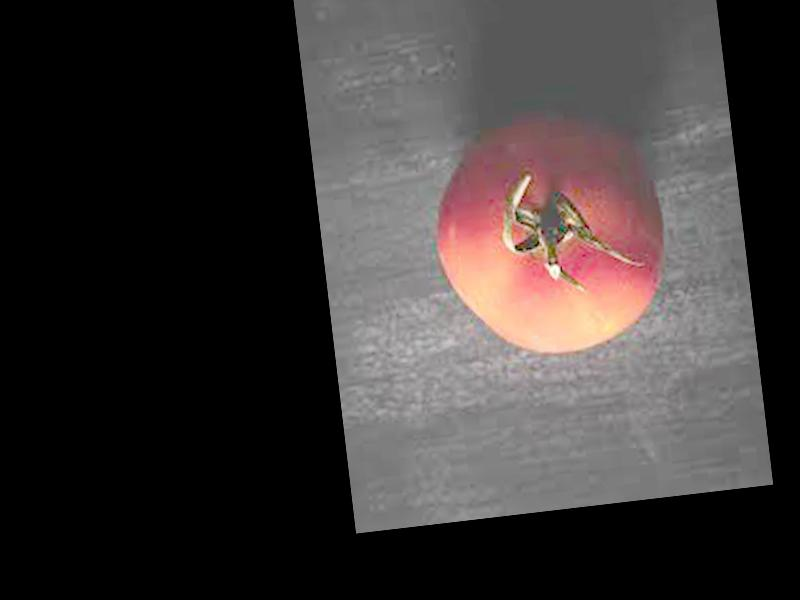Tomato: (424, 107, 673, 367)
